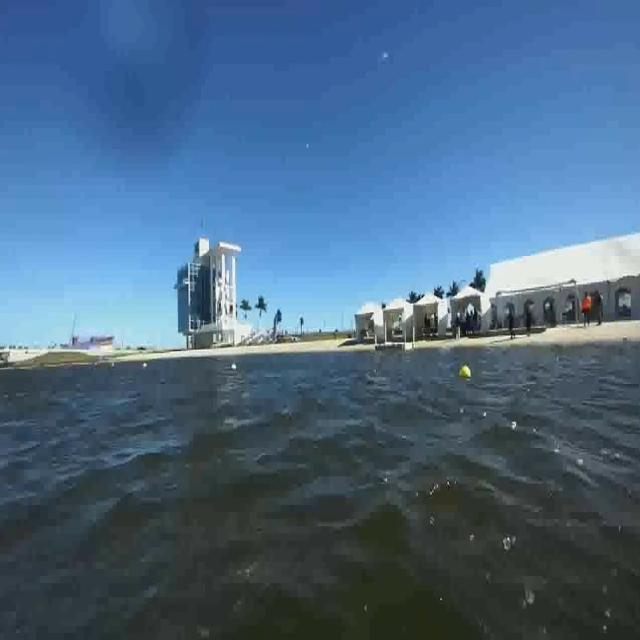yellow-buoy: (460, 363, 471, 378)
